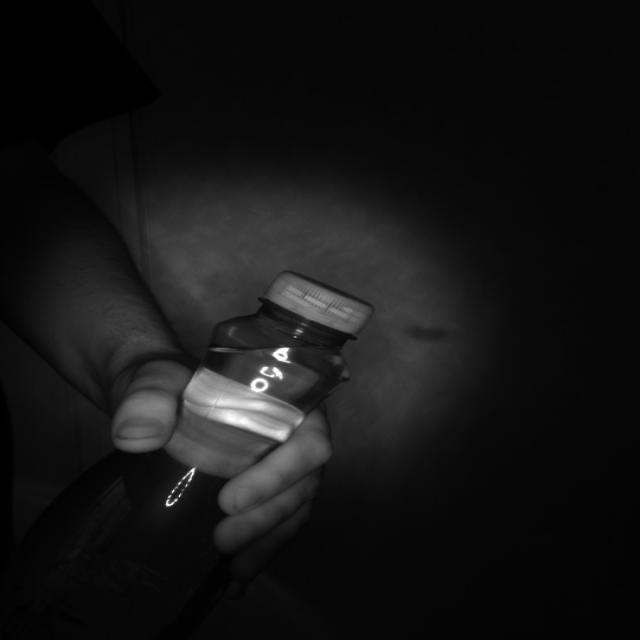Good: (262, 271, 372, 338)
